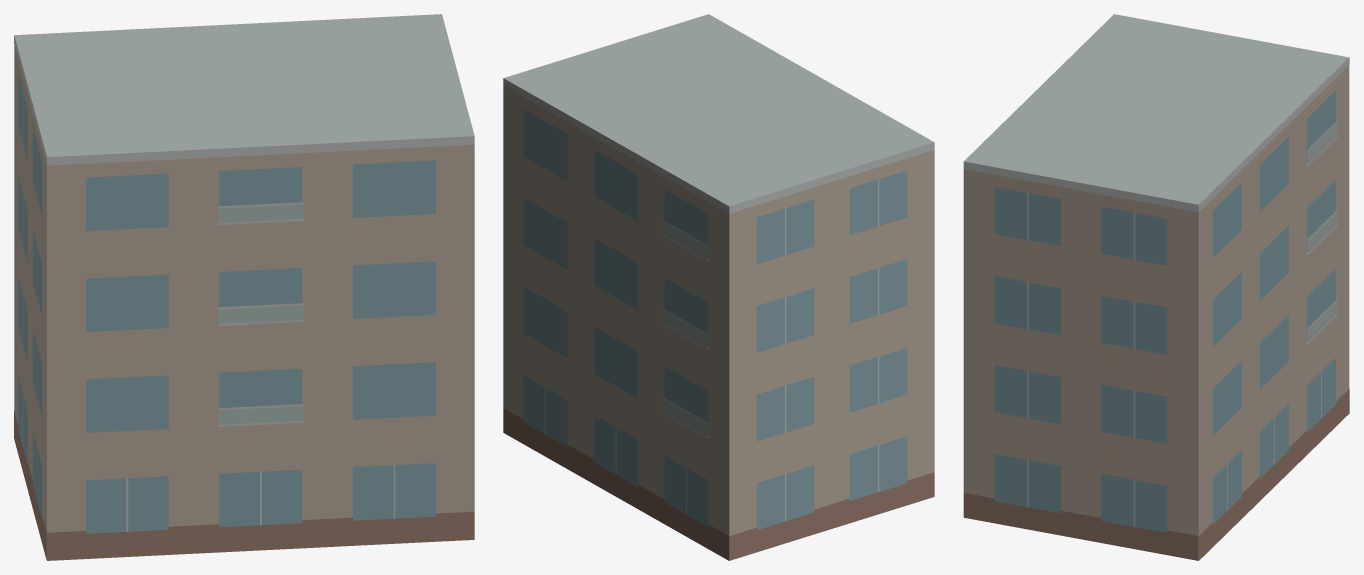
The model's file is survey-upis-32566454.glb.
3 views of the same model, side by side, from view 1: azimuth 30°, elevation 25°; view 2: azimuth 150°, elevation 25°; view 3: azimuth 270°, elevation 25° (orthographic). The views are drawn at different scales.
Visible parts, largest first — view 1: survey-upis-32566454.tmp; view 2: survey-upis-32566454.tmp; view 3: survey-upis-32566454.tmp.
Part boxes in pixels (x1=…): survey-upis-32566454.tmp: x1=14, y1=14, x2=474, y2=560; survey-upis-32566454.tmp: x1=503, y1=14, x2=934, y2=560; survey-upis-32566454.tmp: x1=963, y1=14, x2=1349, y2=560.
Bounding box in the file's own units: 13.23 × 11.51 × 11.31.
